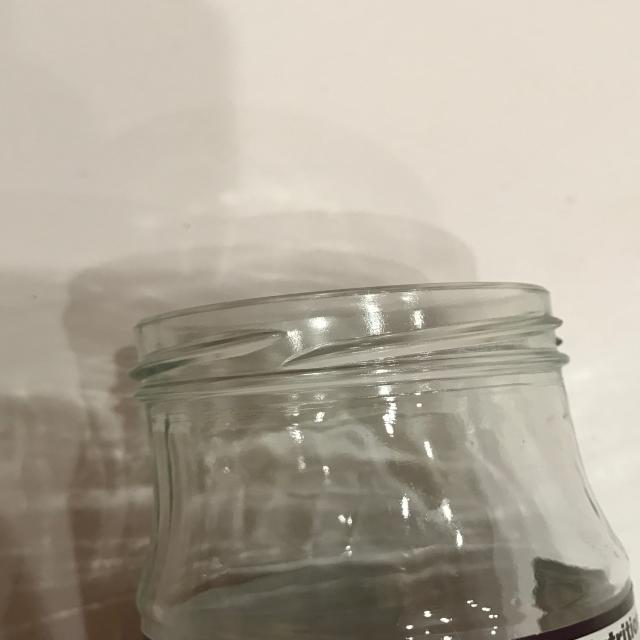glass: (132, 280, 637, 640)
